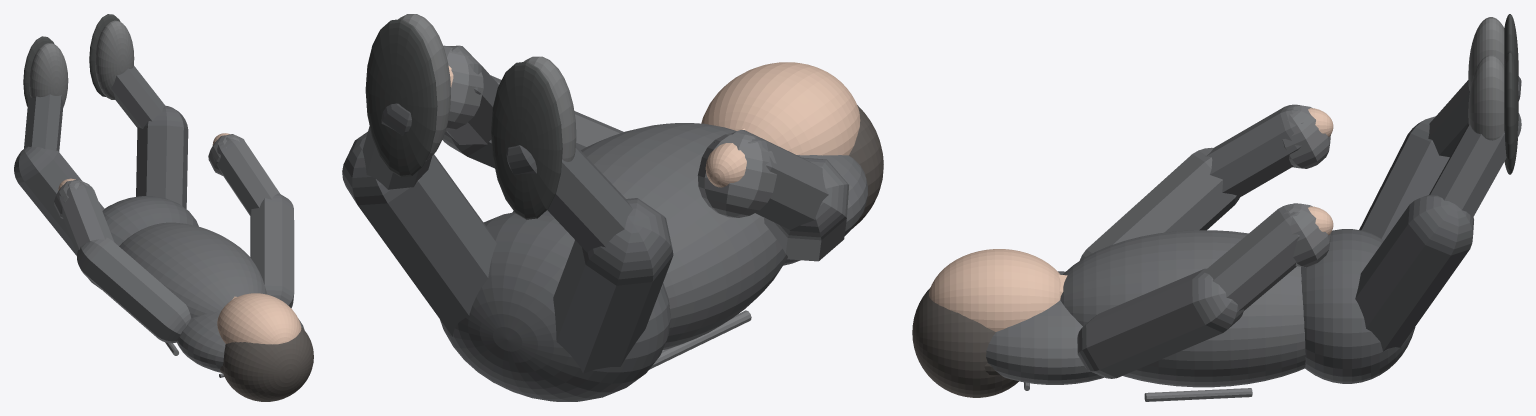
Rendered from boy.glb.
3 views of the same model, side by side, from view 1: azimuth 30°, elevation 25°; view 2: azimuth 150°, elevation 25°; view 3: azimuth 270°, elevation 25° (orthographic). The views are drawn at different scales.
Parts seen in each view (by area): view 1: hoodie_body, left_upper_sleeve, hair_main, right_thigh, right_upper_sleeve, head, left_thigh, pelvis, right_fore_sleeve, left_fore_sleeve, R_shoe_upper, hood_back (+7 smaller); view 2: hoodie_body, pelvis, right_thigh, left_thigh, head, L_shoe_sole, R_shoe_sole, left_shin, left_fore_sleeve, left_cuff, left_upper_sleeve, R_shoe_upper (+9 smaller); view 3: hoodie_body, right_thigh, right_upper_sleeve, pelvis, head, left_upper_sleeve, hair_main, hood_back, right_fore_sleeve, left_fore_sleeve, left_thigh, right_shin (+8 smaller).
Part boxes in pixels (<box>): hoodie_body: <box>119,222,267,318</box>; left_upper_sleeve: <box>77,237,191,343</box>; hair_main: <box>223,327,313,401</box>; right_thigh: <box>136,106,188,208</box>; right_upper_sleeve: <box>250,193,294,308</box>; head: <box>217,293,301,344</box>; left_thigh: <box>14,146,104,255</box>; pelvis: <box>87,196,198,288</box>; right_fore_sleeve: <box>212,136,279,215</box>; left_fore_sleeve: <box>59,181,114,253</box>; R_shoe_upper: <box>95,20,134,99</box>; hood_back: <box>177,311,304,372</box>; hoodie_body: <box>512,123,787,349</box>; pelvis: <box>440,210,670,401</box>; right_thigh: <box>342,131,496,336</box>; left_thigh: <box>553,198,673,373</box>; head: <box>701,62,860,155</box>; L_shoe_sole: <box>491,61,562,219</box>; R_shoe_sole: <box>365,19,437,177</box>; left_shin: <box>506,145,632,252</box>; left_fore_sleeve: <box>714,130,828,229</box>; left_cuff: <box>697,132,776,217</box>; left_upper_sleeve: <box>764,157,848,261</box>; R_shoe_upper: <box>398,14,450,161</box>; hoodie_body: <box>1060,230,1305,387</box>; right_thigh: <box>1355,195,1473,351</box>; right_upper_sleeve: <box>1077,268,1243,378</box>; pelvis: <box>1301,229,1415,383</box>; head: <box>929,249,1060,331</box>; left_upper_sleeve: <box>1079,147,1239,260</box>; hair_main: <box>912,287,1018,397</box>; hood_back: <box>986,271,1103,384</box>; right_fore_sleeve: <box>1202,203,1299,310</box>; left_fore_sleeve: <box>1206,104,1303,200</box>; left_thigh: <box>1359,116,1449,240</box>; right_shin: <box>1429,113,1521,218</box>.
Bounding box in the file's own units: 1.42 × 1.55 × 2.42.
